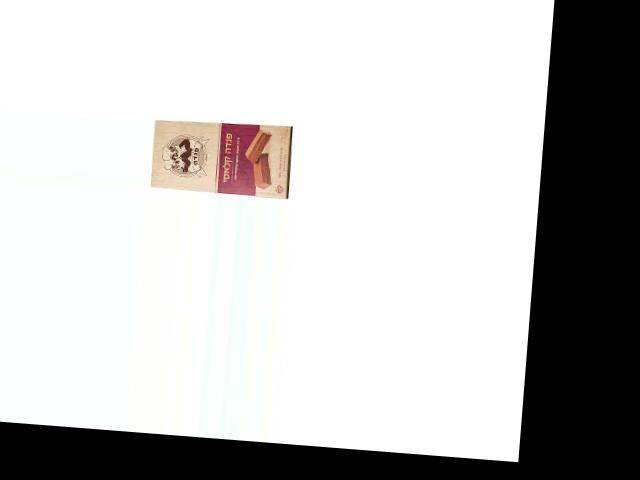chocolate: (149, 113, 294, 196)
